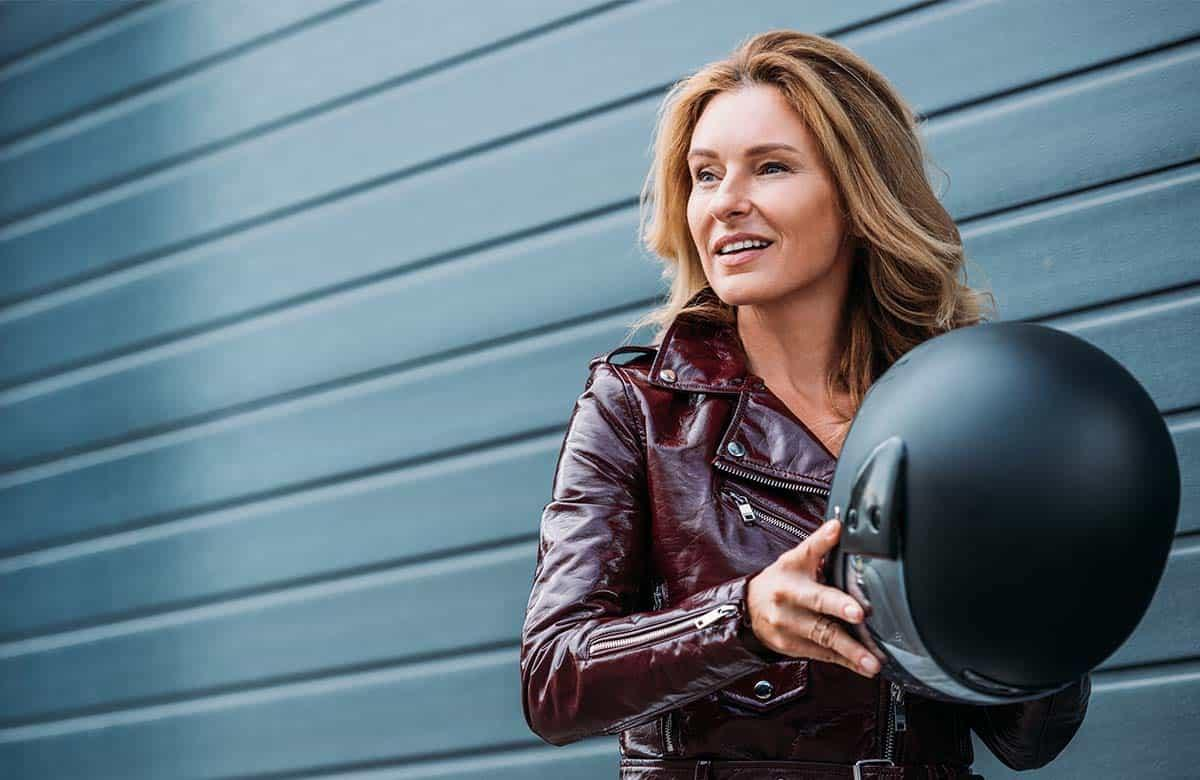helmet: (823, 319, 1184, 713)
nohelmet: (655, 45, 910, 321)
